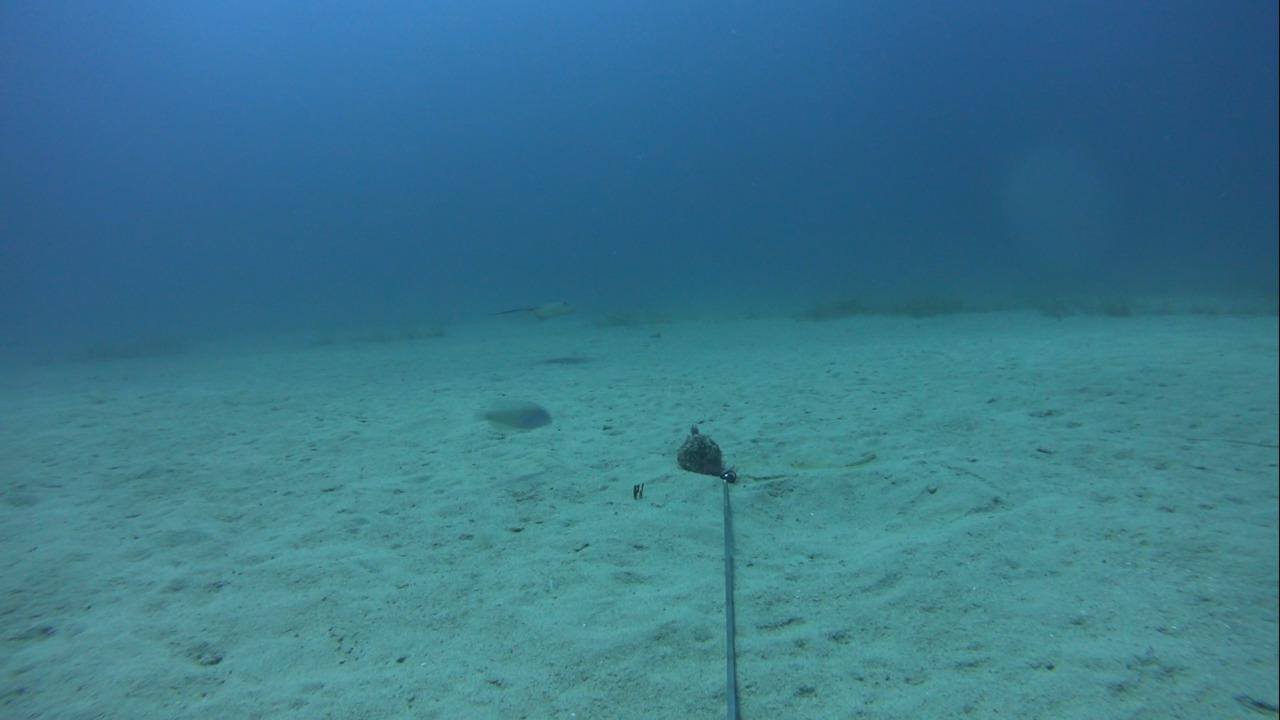myliobatis: (469, 287, 582, 336)
raor: (464, 390, 557, 439)
